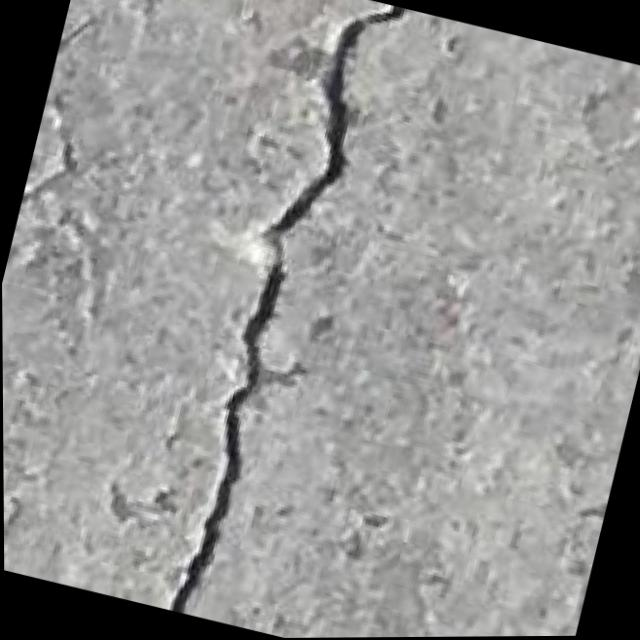Crack: (135, 0, 416, 633)
